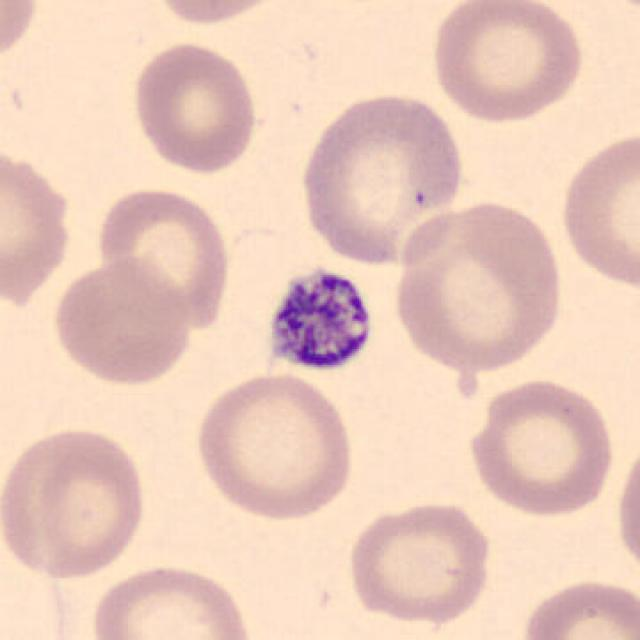Platelets: (260, 262, 378, 374)
RBC: (389, 196, 567, 376), (295, 86, 469, 270), (190, 368, 359, 524), (2, 423, 153, 582), (462, 374, 617, 520), (93, 182, 235, 333), (343, 496, 496, 628), (426, 0, 586, 125), (48, 256, 196, 388), (126, 37, 263, 176), (555, 125, 638, 296), (85, 559, 258, 640), (0, 140, 76, 310), (518, 575, 638, 640), (611, 432, 640, 582), (146, 0, 292, 28), (0, 0, 41, 69), (583, 0, 640, 19)
